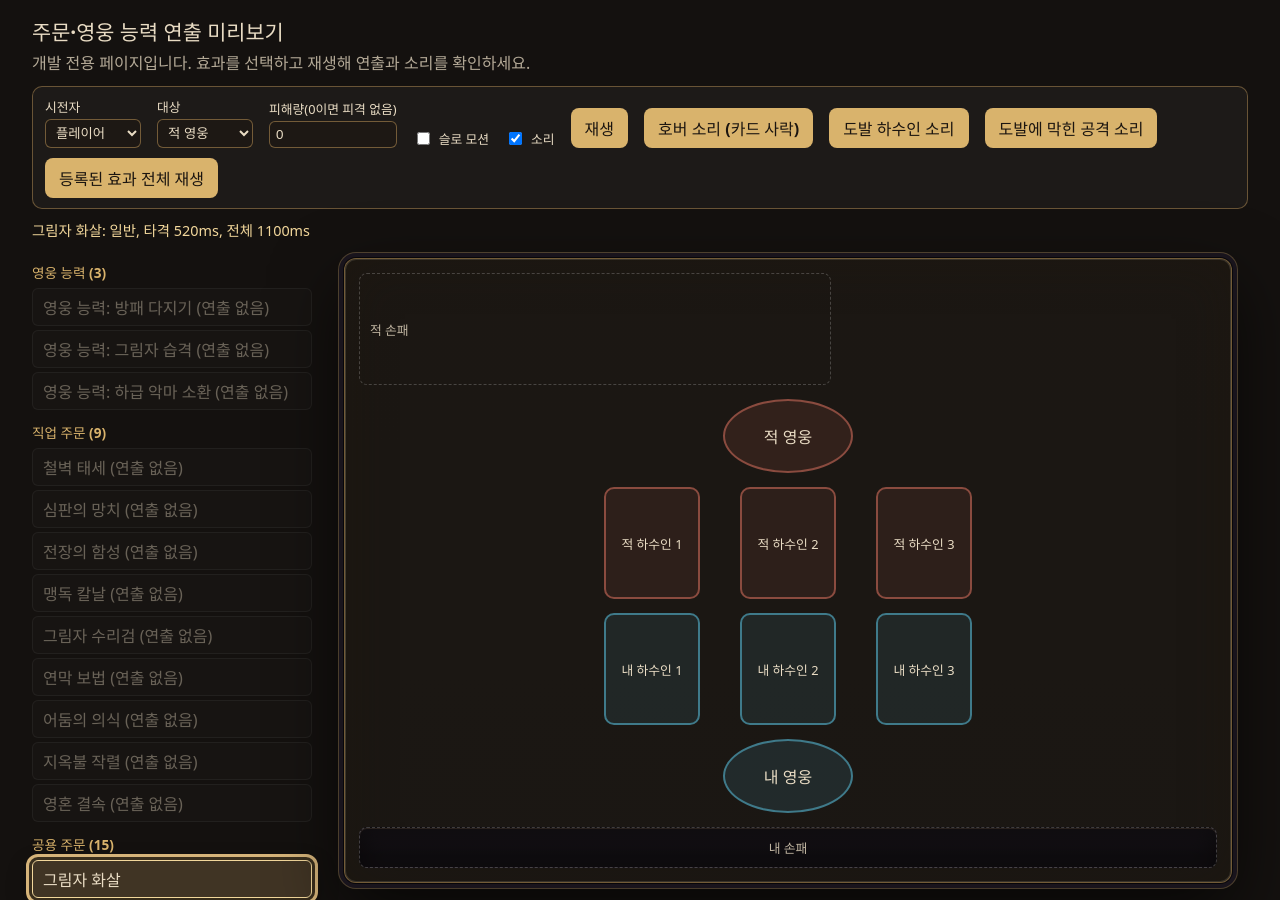
Test case: EffectsPreview › plays all registered effects one after another and can be stopped
Click the button "등록된 효과 전체 재생": (132, 178) [45,158,218,198]
Wait 1460 ms
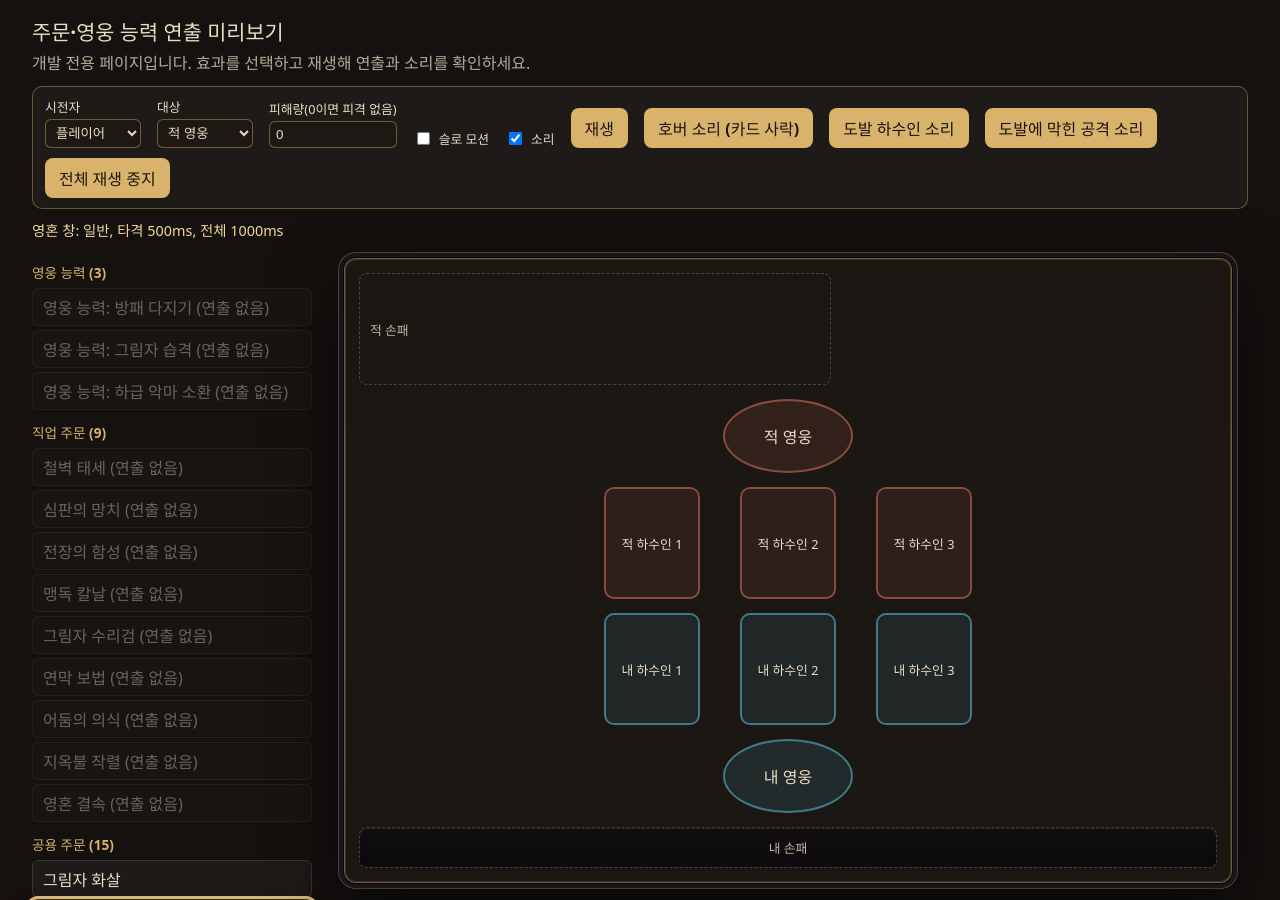
Check: the button "전체 재생 중지" is shown
Click the button "전체 재생 중지": (107, 178) [45,158,170,198]
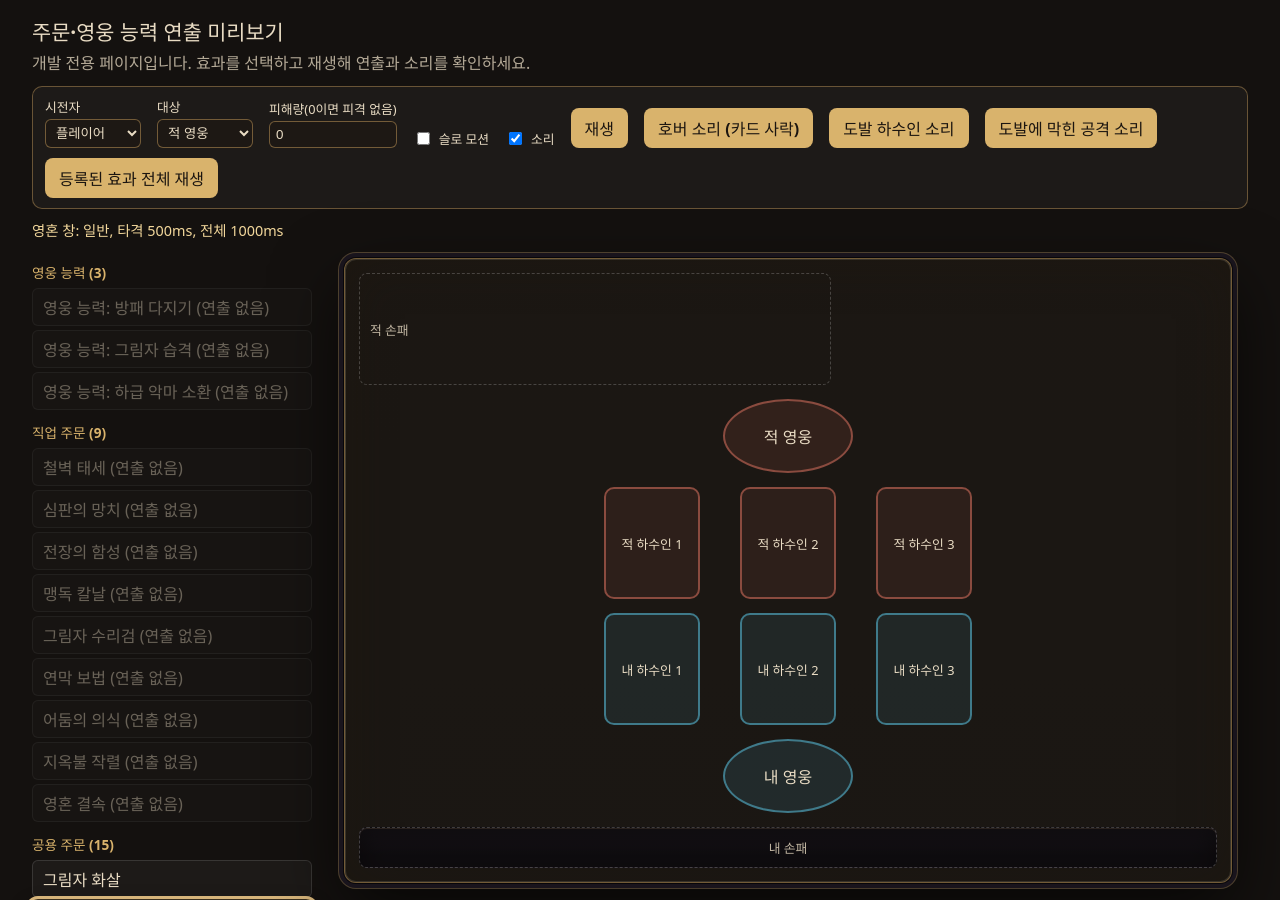
Check: the button "등록된 효과 전체 재생" is shown, box [45,158,218,198]
